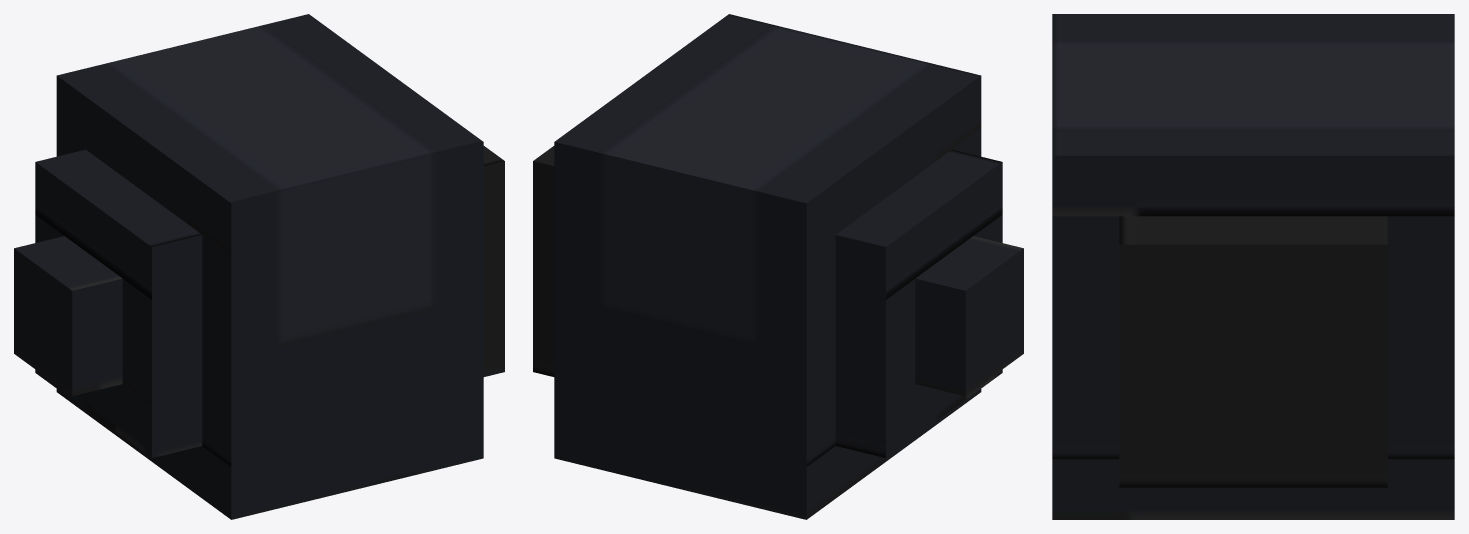
Rendered from Shoulder034.fbx.
3 renders of one model, left to right at view 1: azimuth 30°, elevation 25°; view 2: azimuth 150°, elevation 25°; view 3: azimuth 270°, elevation 25°, orthographic. The views are drawn at different scales.
Visible parts, largest first — view 1: Shoulder034; view 2: Shoulder034; view 3: Shoulder034.
Part boxes in pixels (bbox=[...]): Shoulder034: bbox=[14, 14, 504, 519]; Shoulder034: bbox=[533, 14, 1023, 519]; Shoulder034: bbox=[1052, 14, 1454, 519].
Size of the model in its own units: 8 by 6 by 6.
